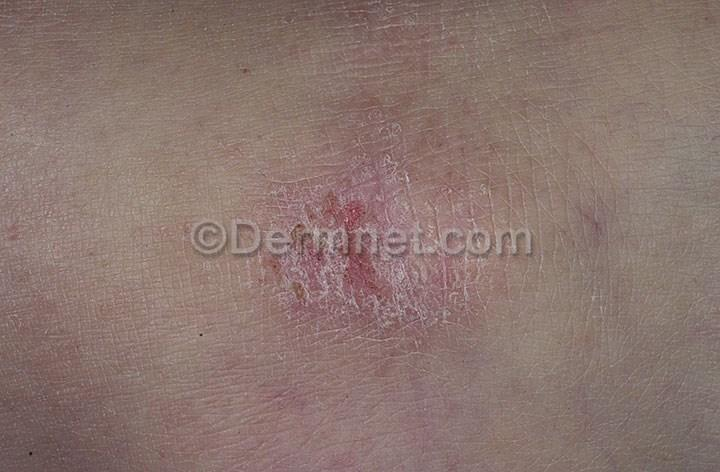Eczema: (200, 66, 499, 377), (315, 0, 480, 97), (232, 375, 352, 472)
